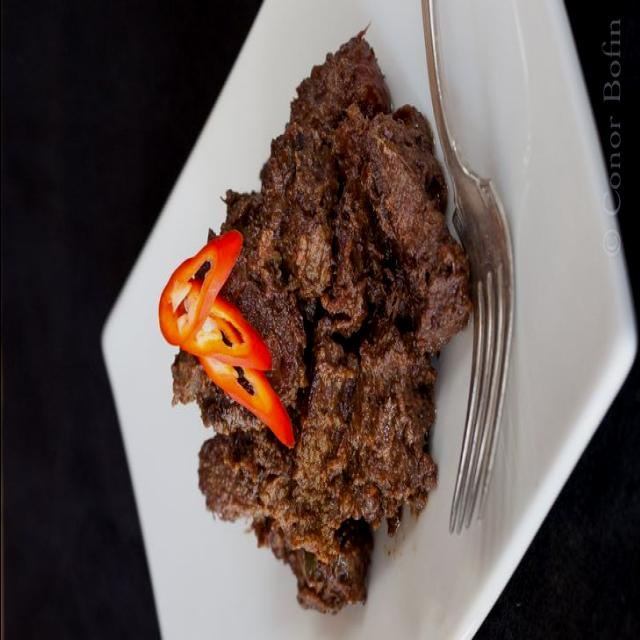rendang: (157, 32, 475, 617)
